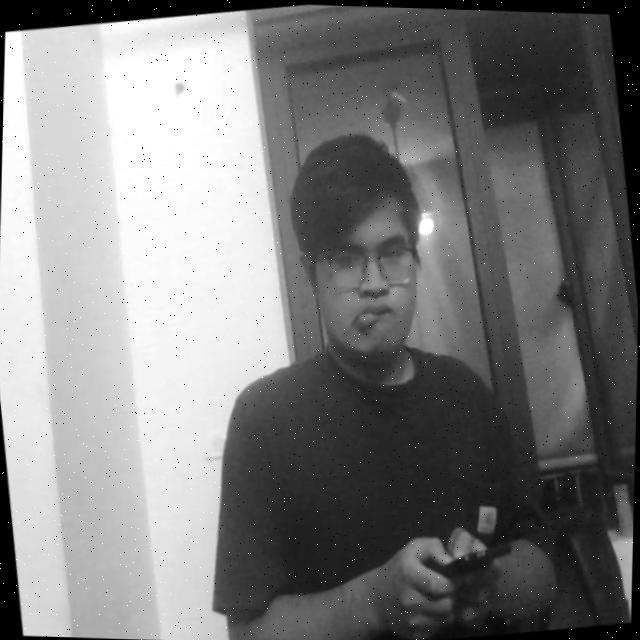phone: (419, 520, 536, 601)
